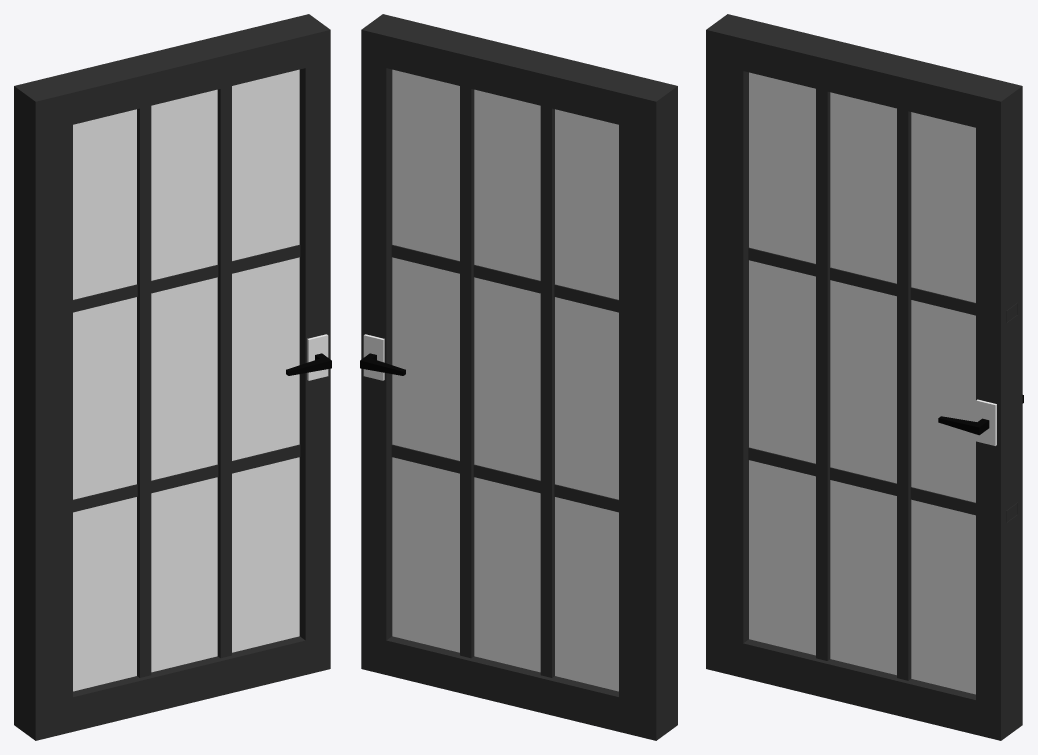
The model's file is door.fbx.
The picture shows the model from 3 angles, left to right: view 1: azimuth 30°, elevation 25°; view 2: azimuth 150°, elevation 25°; view 3: azimuth 330°, elevation 25°; orthographic projection.
Parts seen in each view (by area): view 1: door_001; view 2: door_001; view 3: door_001.
Boxes of the visible parts, <box> form: door_001: <box>14,14,331,740</box>; door_001: <box>360,14,677,740</box>; door_001: <box>706,14,1023,740</box>.
Size of the model in its own units: 110 by 227 by 28.59.
